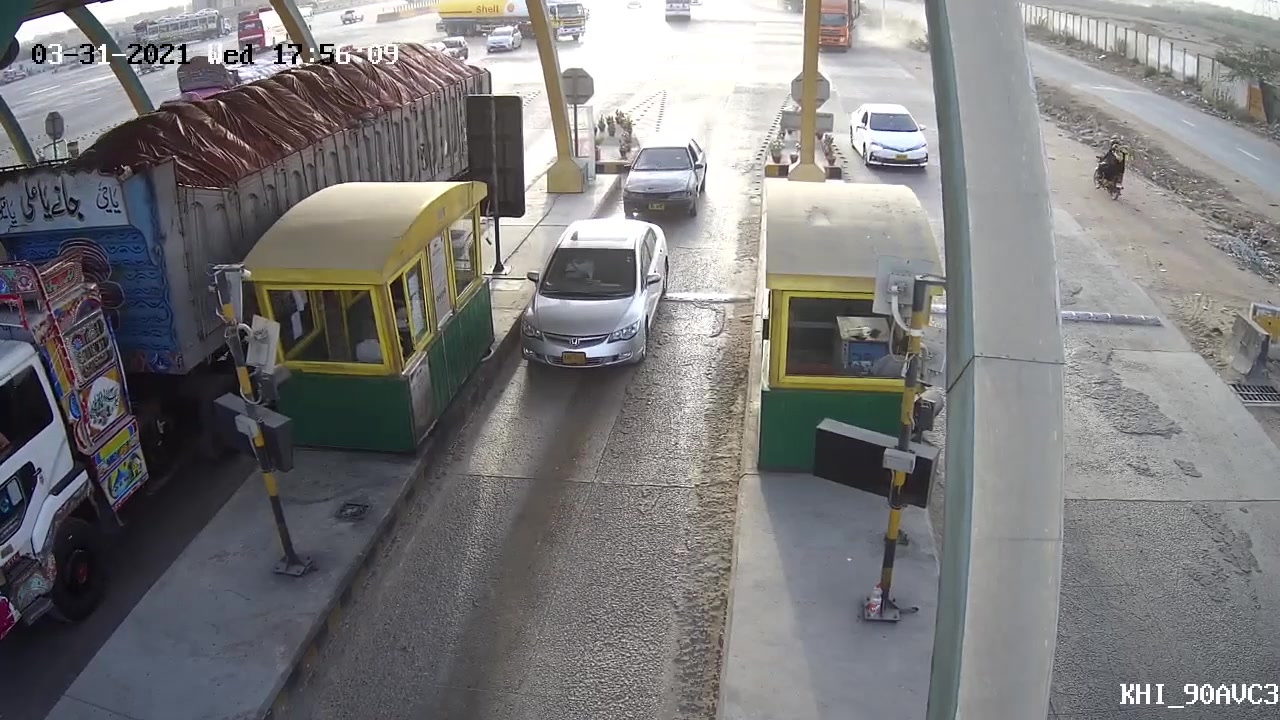F1: (508, 214, 671, 365), (620, 130, 712, 217)
